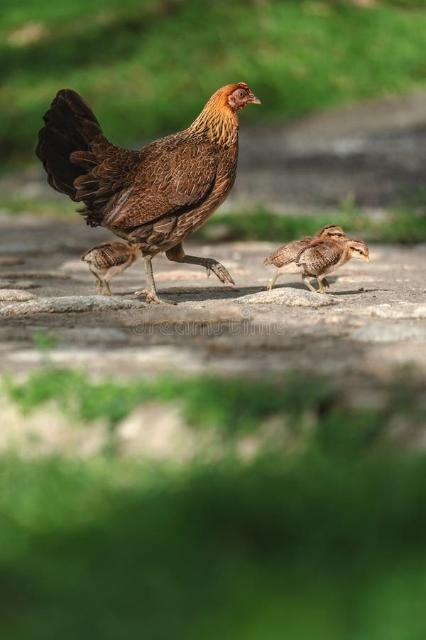Chicken: (37, 79, 263, 303)
